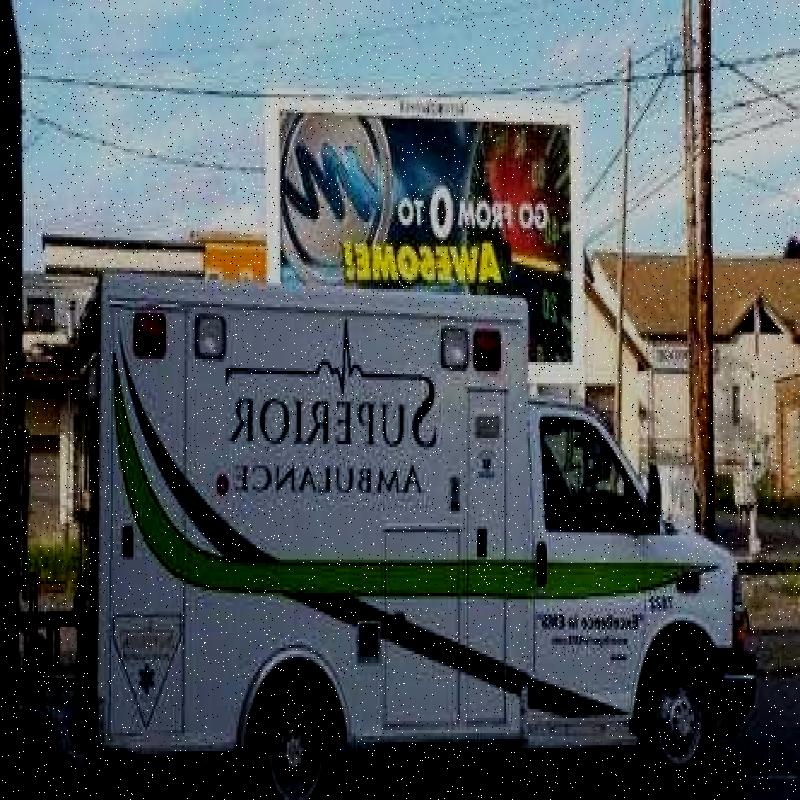AmbulanceSiren: (117, 292, 228, 377), (439, 317, 501, 381)
